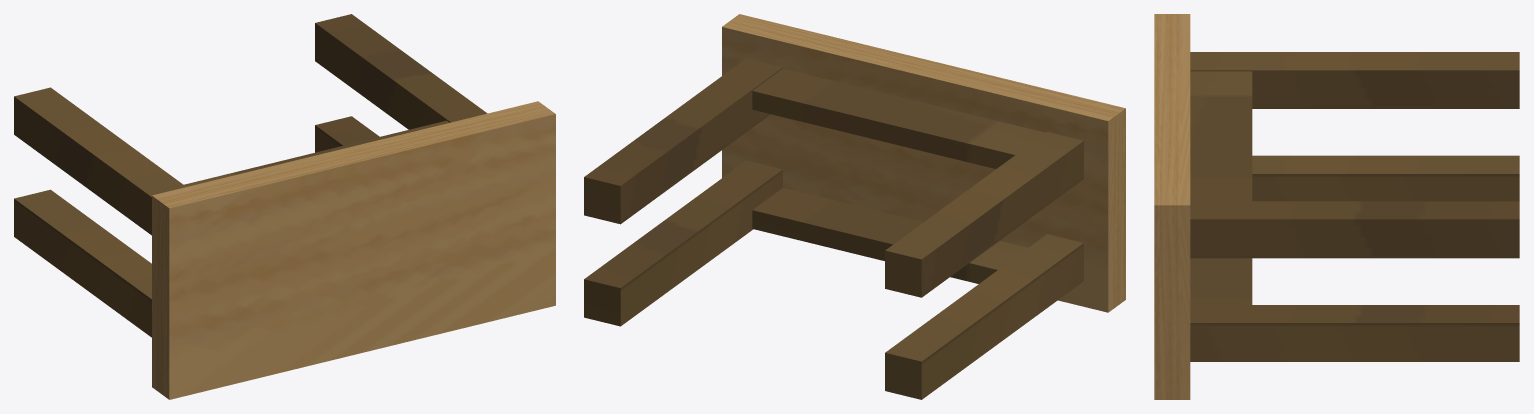
The model's file is pz_table_tables_high_01_long_light.obj.
3 renders of one model, left to right at view 1: azimuth 30°, elevation 25°; view 2: azimuth 150°, elevation 25°; view 3: azimuth 270°, elevation 25°, orthographic.
Bounding box in the file's own units: 0.95 × 0.45 × 0.7655.
1 material, 1 textured.
